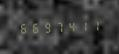four: (65, 19, 76, 33)
nine: (41, 20, 52, 34)
one: (89, 18, 100, 32), (77, 19, 88, 32)
seven: (53, 20, 64, 33)
six: (17, 21, 28, 35), (29, 21, 40, 34)
